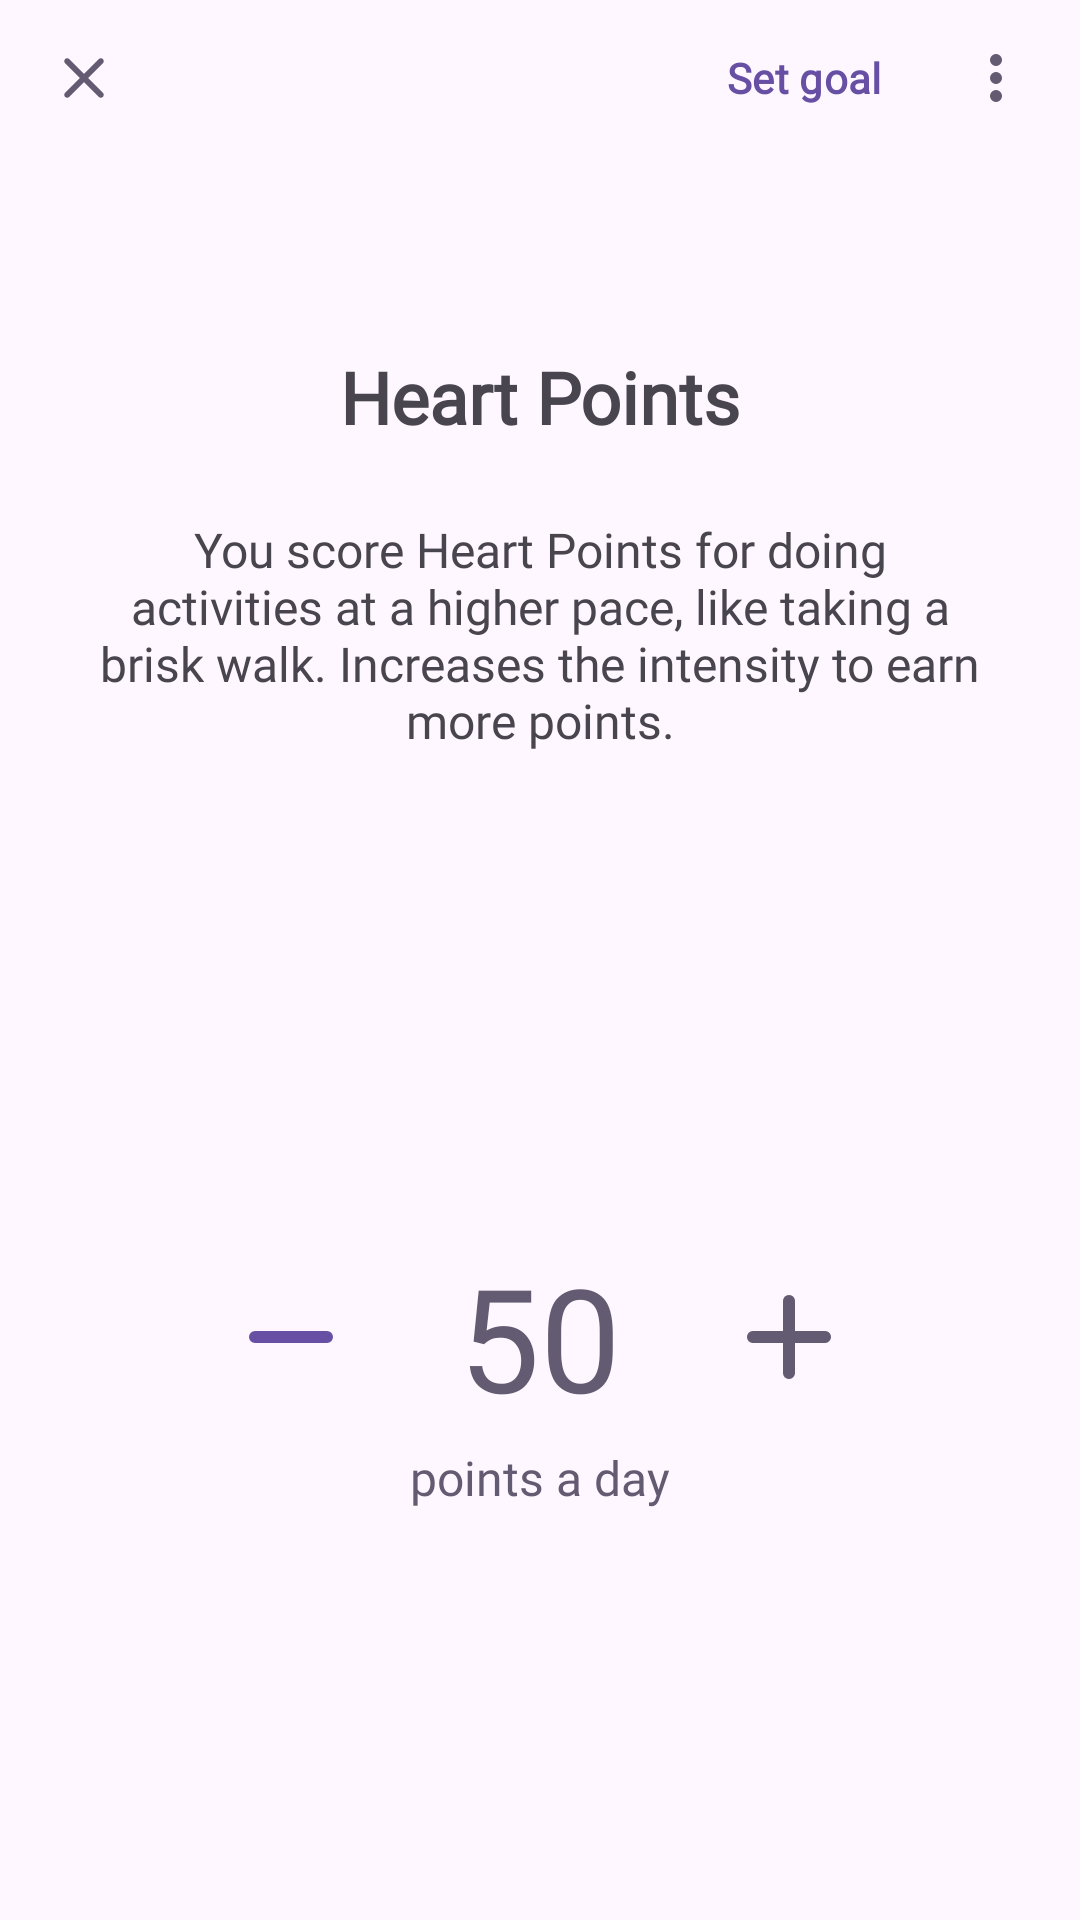

Screen size 1080×1920. Icon name, then its box in pixels as (x1, y1, x2, y2):
add: (747, 1295, 831, 1379)
close: (64, 58, 104, 98)
more vert: (990, 54, 1002, 102)
